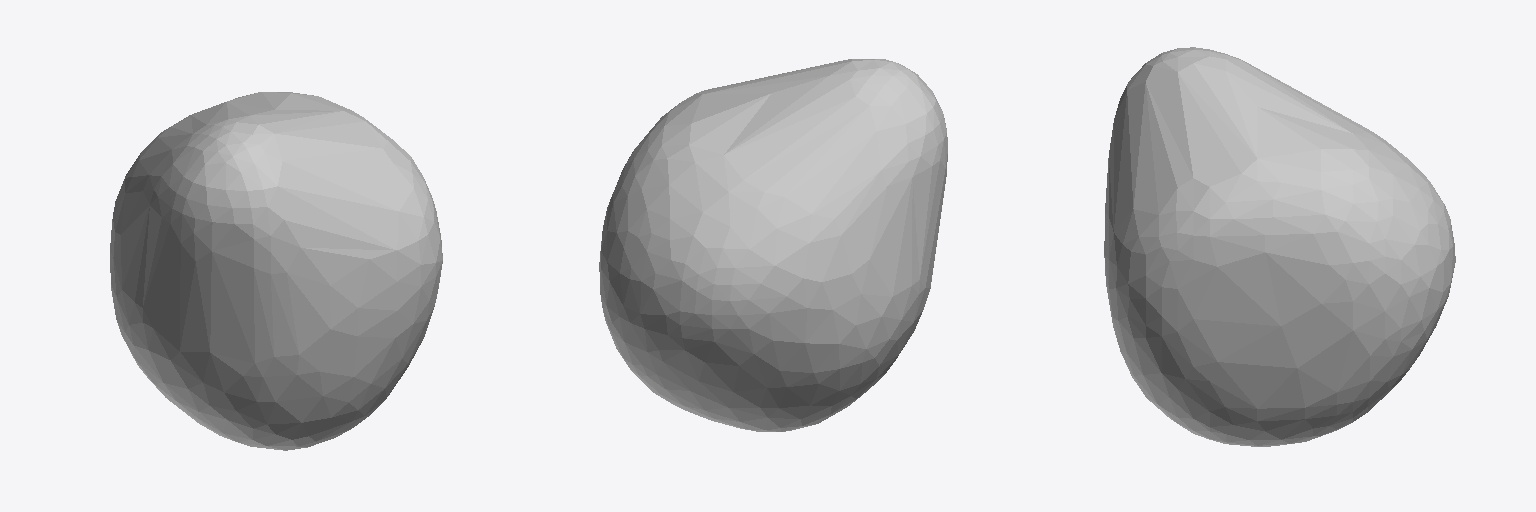
File: Mammillary_bodies1.obj
The picture shows the model from 3 angles: view 1: azimuth 30°, elevation 25°; view 2: azimuth 150°, elevation 25°; view 3: azimuth 270°, elevation 25°; orthographic projection.
Parts seen in each view (by area): view 1: obj0; view 2: obj0; view 3: obj0.
Part boxes in pixels (bbox=[...]): obj0: bbox=[110, 92, 442, 450]; obj0: bbox=[599, 59, 947, 431]; obj0: bbox=[1104, 47, 1455, 446].
Bounding box in the file's own units: 1.94 × 2.41 × 2.22.